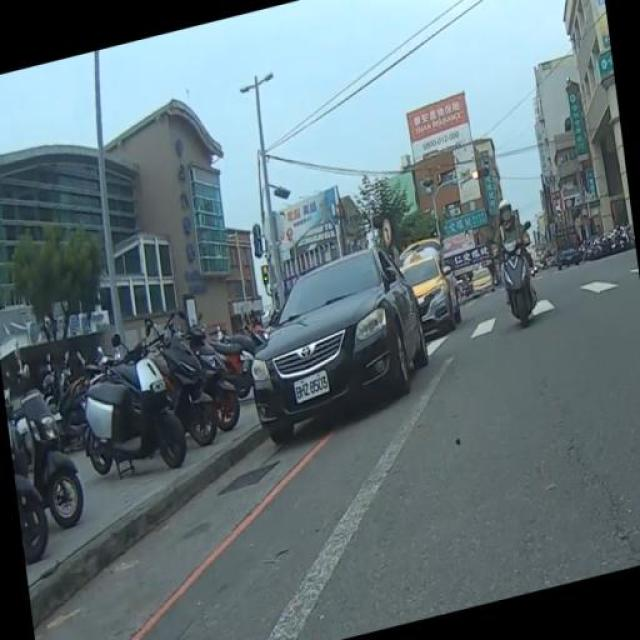Legalparking: (0, 295, 250, 546)
illegalparking: (225, 230, 475, 450)
